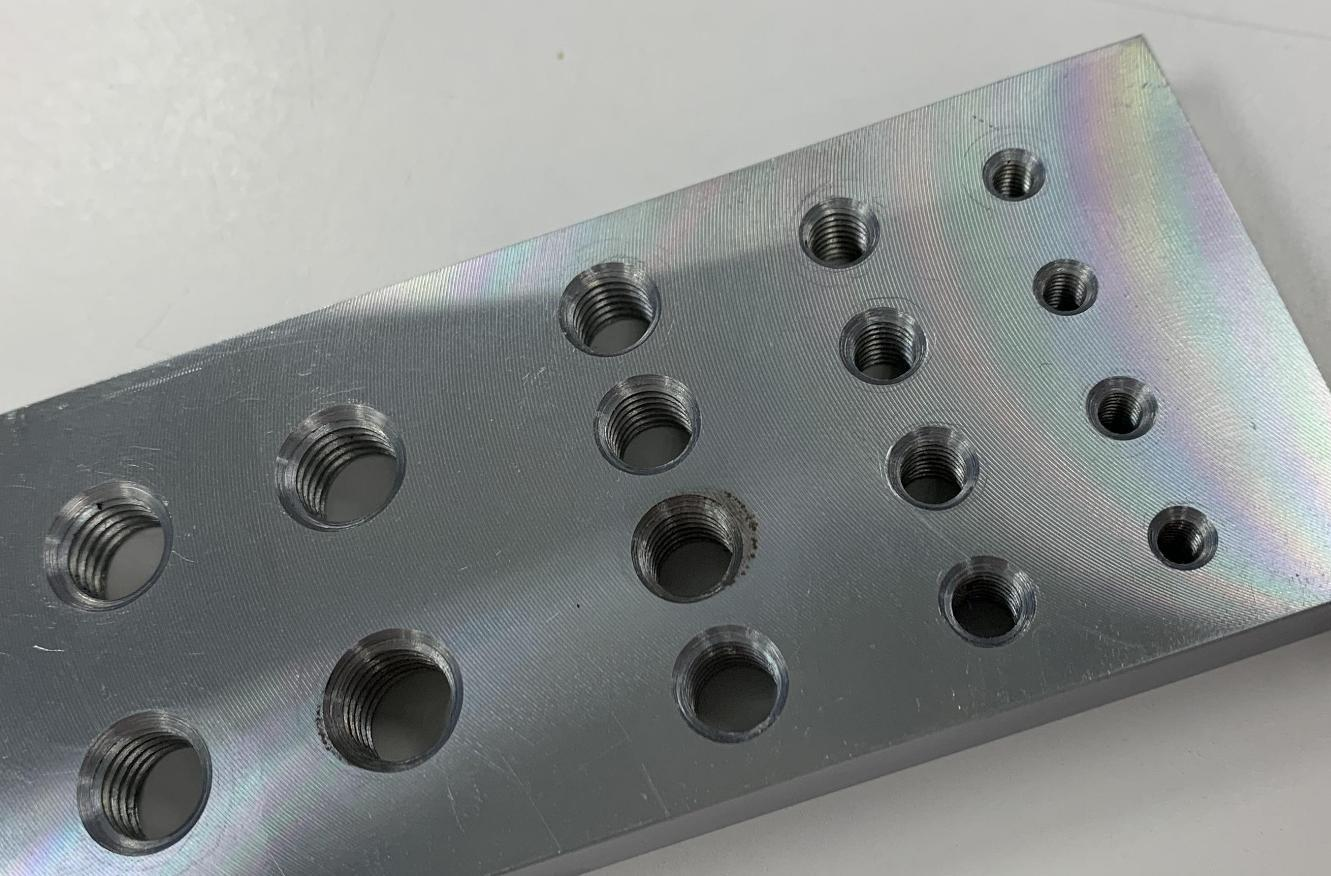hole: (52, 695, 246, 863), (306, 617, 490, 789), (17, 479, 199, 650), (251, 385, 428, 543), (624, 469, 780, 611), (657, 620, 813, 754), (916, 538, 1062, 668), (566, 357, 718, 481), (541, 242, 675, 364), (863, 417, 1007, 529), (778, 180, 908, 274), (824, 300, 946, 395), (1063, 362, 1185, 456), (1114, 495, 1244, 581), (1020, 247, 1126, 340), (962, 134, 1080, 214)
